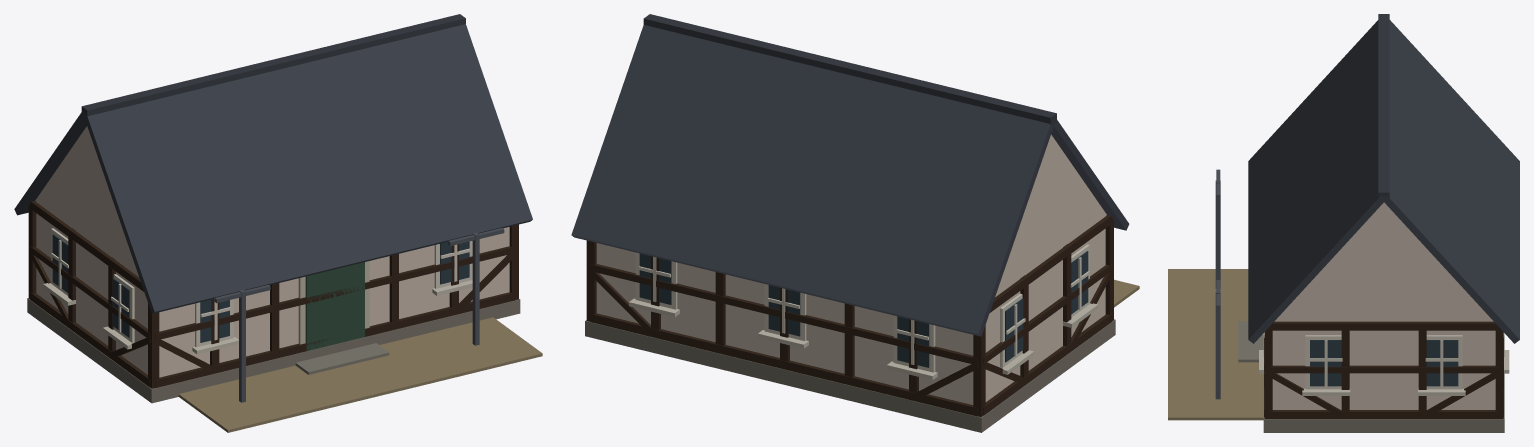
The model's file is procedural_school@3.glb.
3 views of the same model, side by side, from view 1: azimuth 30°, elevation 25°; view 2: azimuth 150°, elevation 25°; view 3: azimuth 270°, elevation 25° (orthographic). The views are drawn at different scales.
Visible parts, largest first — view 1: part_0; view 2: part_0; view 3: part_0.
Part boxes in pixels (box(x1,y1,x2,y2)): part_0: box(14, 14, 542, 432); part_0: box(571, 14, 1139, 432); part_0: box(1168, 14, 1519, 432).
Bounding box in the file's own units: 8.42 × 5.33 × 7.
